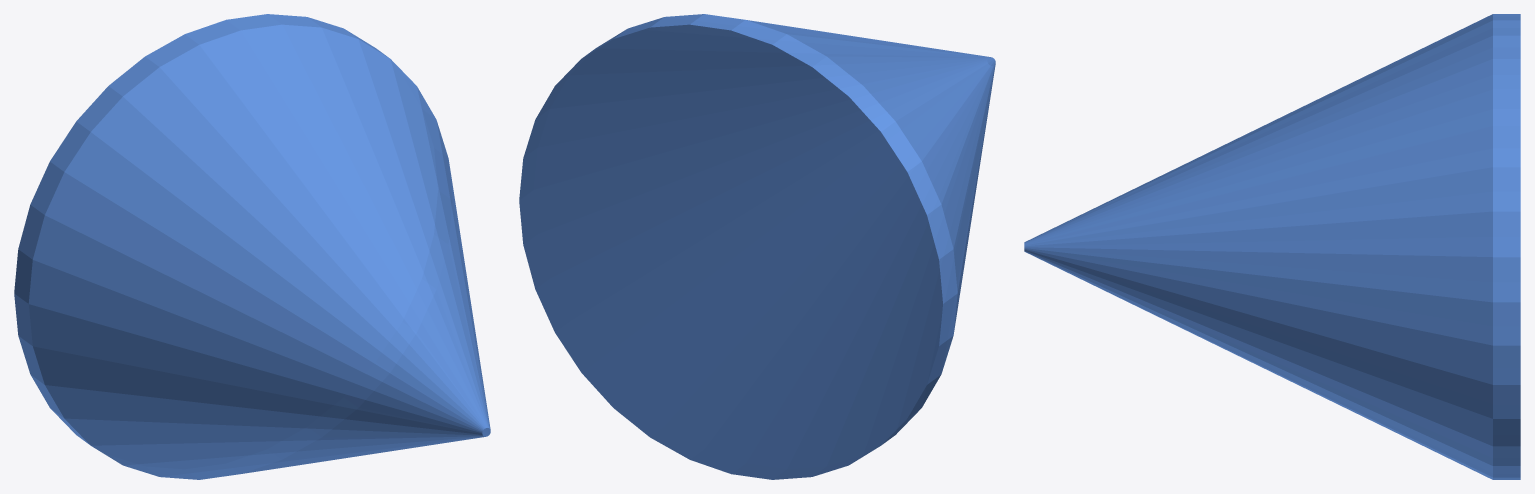
3 renders of one model, left to right at view 1: azimuth 30°, elevation 25°; view 2: azimuth 150°, elevation 25°; view 3: azimuth 270°, elevation 25°, orthographic. The views are drawn at different scales.
Parts seen in each view (by area): view 1: Cone; view 2: Cone; view 3: Cone.
Boxes of the visible parts, x1,y1,x2,y2 form: Cone: [14, 14, 490, 479]; Cone: [519, 14, 995, 479]; Cone: [1024, 14, 1520, 479].
Size of the model in its own units: 200 by 200 by 213.
